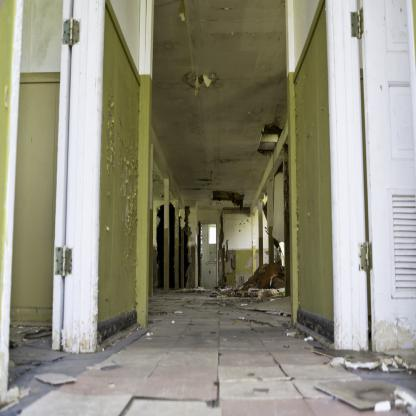door: (350, 0, 415, 357)
hinged: (359, 240, 375, 271), (58, 245, 70, 278), (64, 13, 76, 46), (353, 7, 365, 39)
